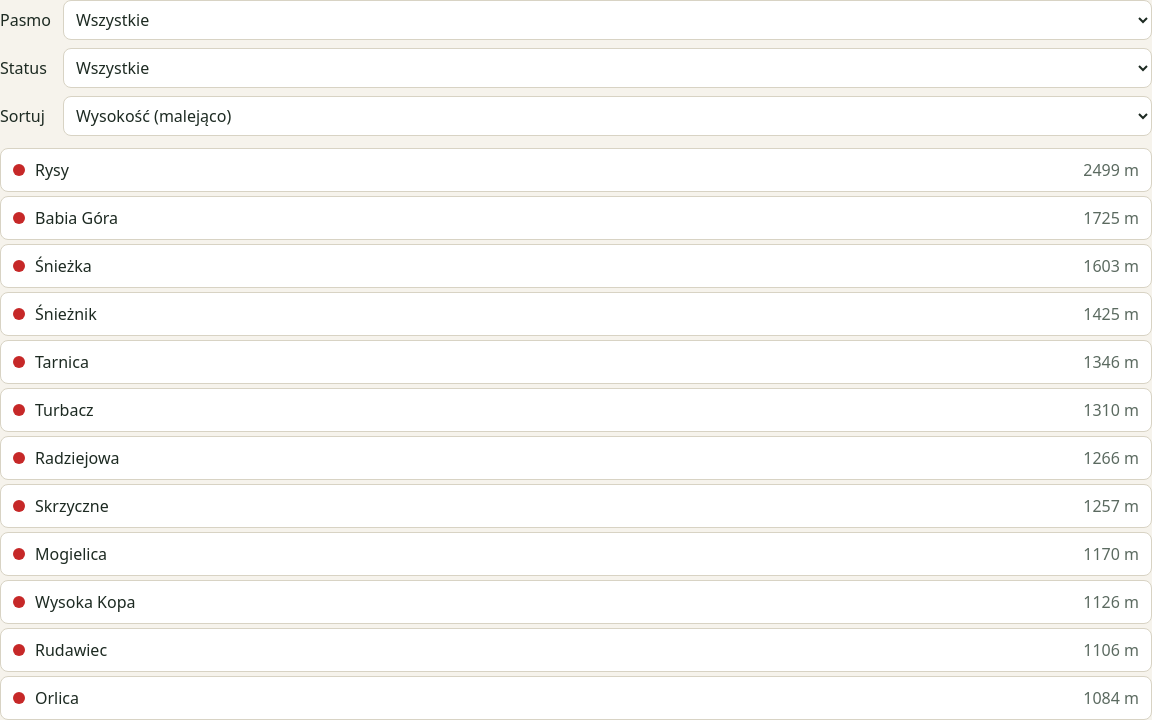
Test case: PeakList › shows an empty-state message when nothing matches
Select "Zdobyte" in the dropdown labelled "Status": (608, 68) [63, 48, 1151, 88]
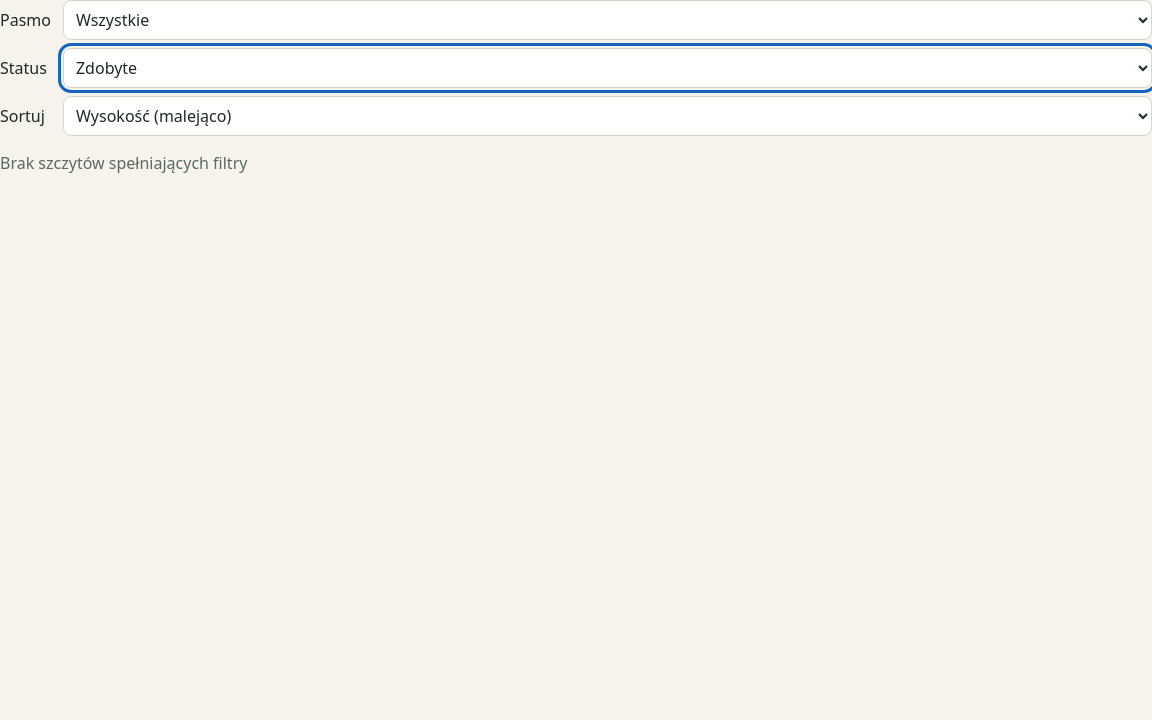
Result: no list items are shown
Result: the text "Brak szczytów spełniających filtry" is shown at [0, 152, 247, 174]
